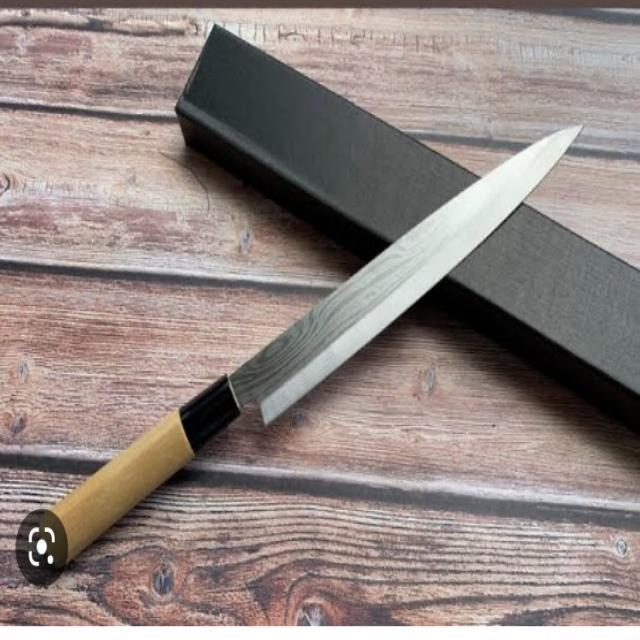Knife: (8, 109, 608, 608)
